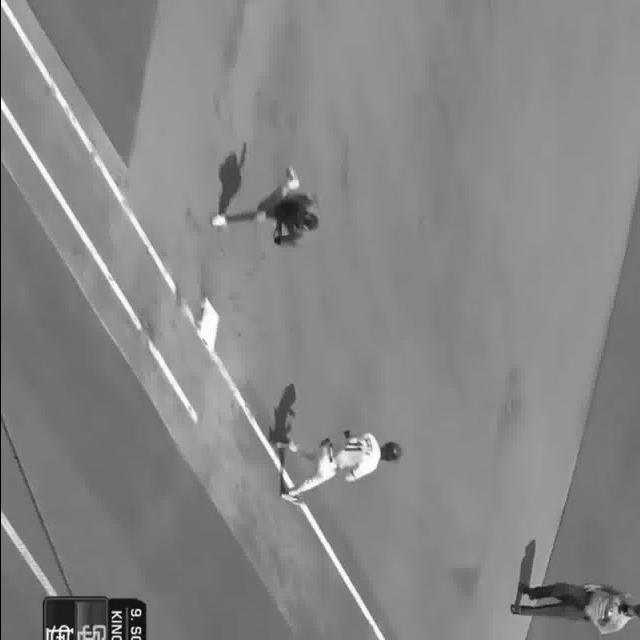base: (197, 297, 219, 353)
shoe: (269, 438, 297, 454), (284, 166, 298, 188), (282, 492, 300, 507), (210, 214, 228, 228)
